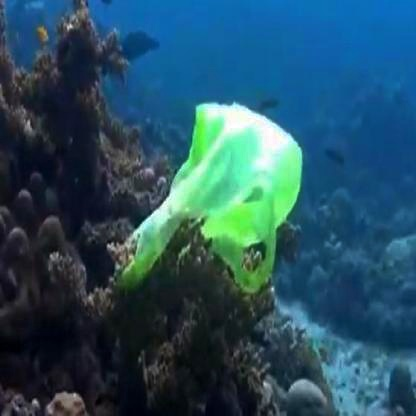plastic: (139, 92, 317, 301)
